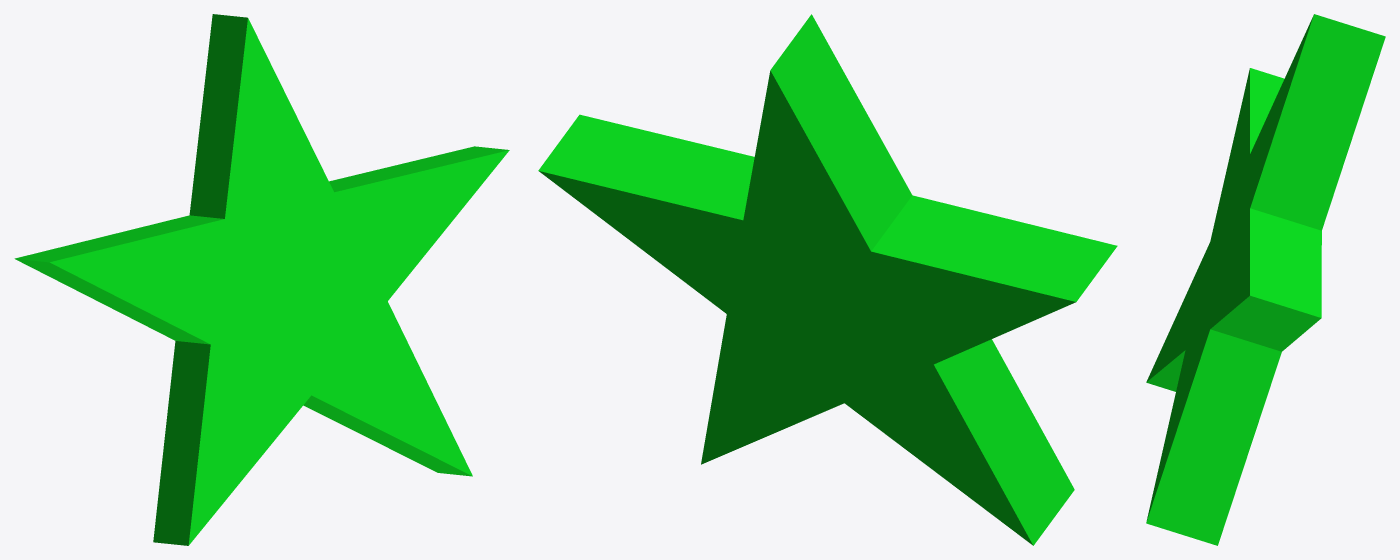
Rendered from star.fbx.
3 renders of one model, left to right at view 1: azimuth 30°, elevation 25°; view 2: azimuth 150°, elevation 25°; view 3: azimuth 270°, elevation 25°, orthographic. The views are drawn at different scales.
Parts seen in each view (by area): view 1: Cylinder.004; view 2: Cylinder.004; view 3: Cylinder.004.
Boxes of the visible parts, left/top/right/bottom form: Cylinder.004: left=14, top=14, right=509, bottom=545; Cylinder.004: left=538, top=14, right=1117, bottom=545; Cylinder.004: left=1146, top=14, right=1385, bottom=545.
Bounding box in the file's own units: 112 × 105 × 49.59.
